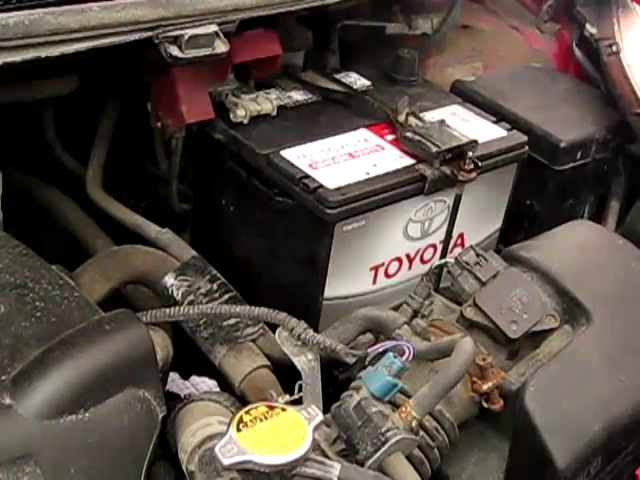battery: (154, 61, 530, 198)
neg_disconnected: (377, 33, 437, 89)
pos_connected: (203, 33, 287, 129)
